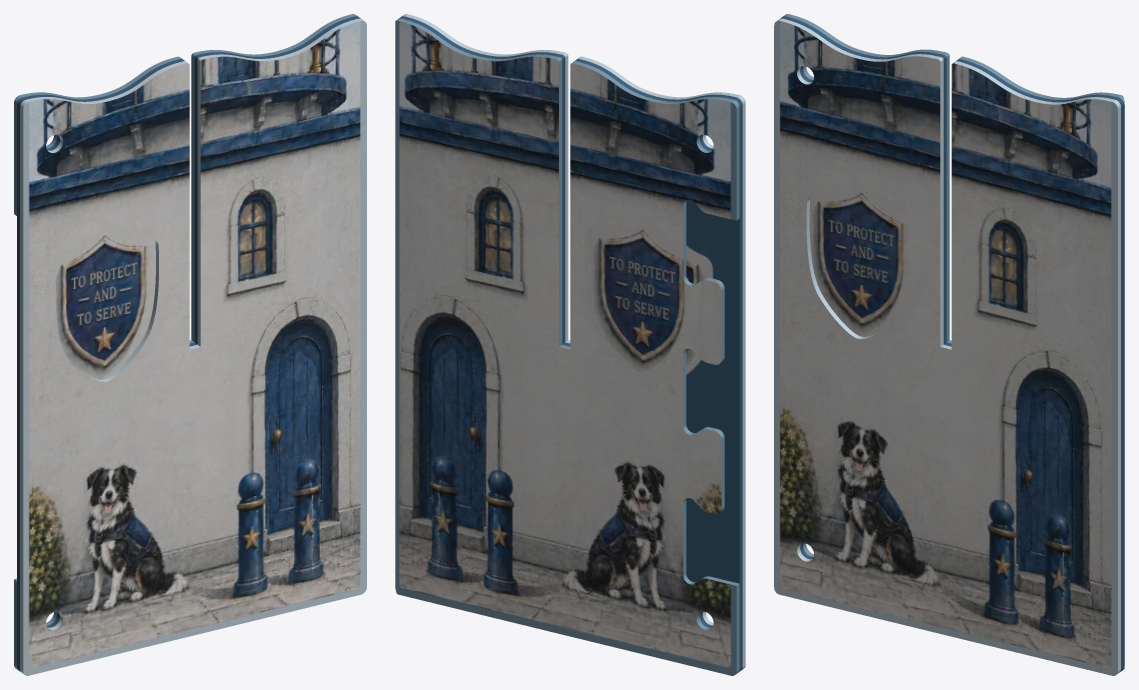
File: narrow-panel-bottom-subpanel.glb
3 renders of one model, left to right at view 1: azimuth 30°, elevation 25°; view 2: azimuth 150°, elevation 25°; view 3: azimuth 330°, elevation 25°, orthographic.
Parts seen in each view (by area): view 1: narrow-panel-bottom-subpanel; view 2: narrow-panel-bottom-subpanel; view 3: narrow-panel-bottom-subpanel.
Boxes of the visible parts, left/top/right/bottom form: narrow-panel-bottom-subpanel: left=14, top=14, right=366, bottom=675; narrow-panel-bottom-subpanel: left=395, top=14, right=745, bottom=675; narrow-panel-bottom-subpanel: left=774, top=14, right=1124, bottom=675.
Bounding box in the file's own units: 580 × 925 × 27.
Materials: 6 (3 with a texture image).
